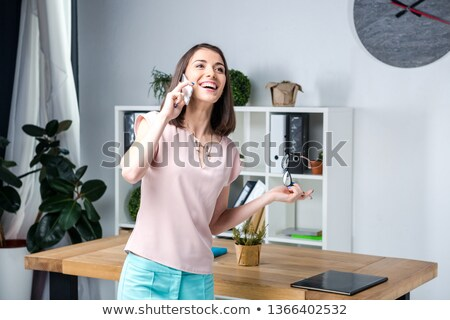phone: (172, 73, 196, 102)
talk: (161, 59, 227, 120)
